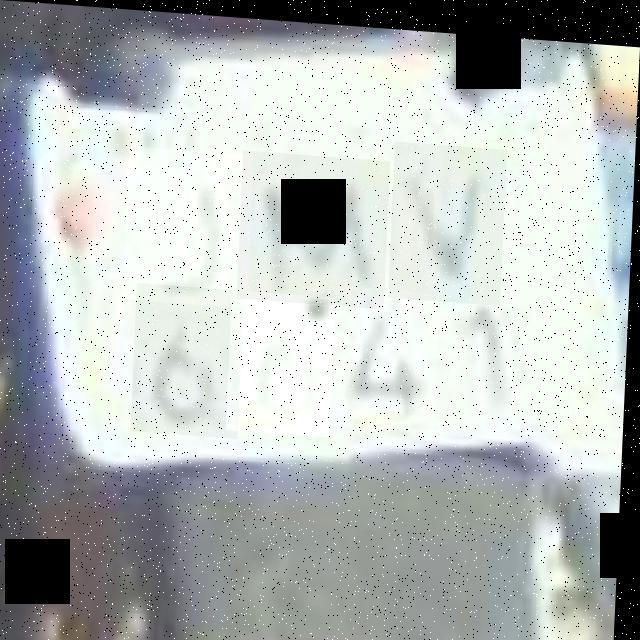4: (326, 280, 443, 426)
6: (134, 281, 247, 435)
D: (230, 287, 338, 433)
J: (125, 144, 255, 304)
N: (239, 147, 391, 303), (391, 135, 508, 298)
